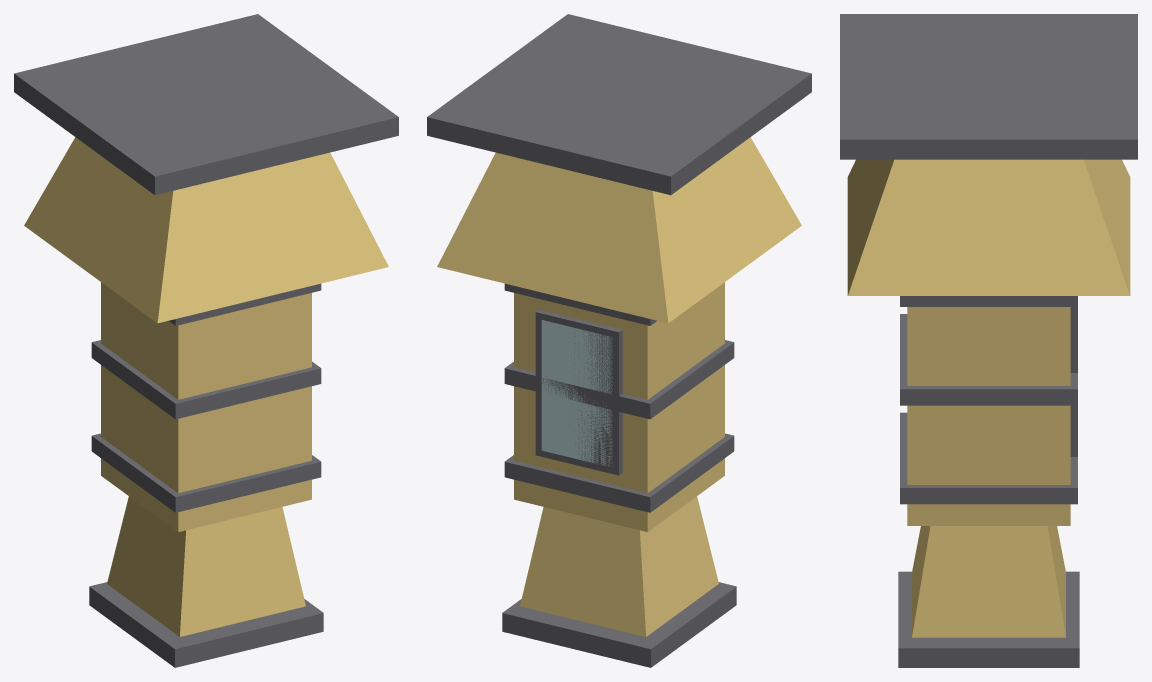
Rendered from chute.glb.
3 views of the same model, side by side, from view 1: azimuth 30°, elevation 25°; view 2: azimuth 150°, elevation 25°; view 3: azimuth 270°, elevation 25° (orthographic). The views are drawn at different scales.
Visible parts, largest first — view 1: Cube, Cone, Cube.001, Cone.001, Cube.007, Cube.003, Cube.002, Cube.004; view 2: Cube, Cone, Cube.001, Cone.001, Cube.005, Cube.007, Cube.006, Cube.002, Cube.003, Cube.004; view 3: Cube, Cone, Cube.001, Cone.001, Cube.007, Cube.002, Cube.003, Cube.004, Cube.006.
Part boxes in pixels (x1,y1,x2,y2): Cube: [14, 14, 398, 195]; Cone: [24, 137, 388, 323]; Cube.001: [101, 282, 311, 532]; Cone.001: [107, 496, 305, 636]; Cube.007: [89, 582, 323, 667]; Cube.003: [91, 340, 321, 419]; Cube.002: [91, 433, 321, 512]; Cube.004: [169, 283, 321, 325]; Cube: [427, 14, 811, 195]; Cone: [437, 137, 801, 323]; Cube.001: [514, 282, 724, 532]; Cone.001: [520, 496, 718, 636]; Cube.005: [541, 320, 612, 466]; Cube.007: [502, 582, 736, 667]; Cube.006: [535, 309, 622, 475]; Cube.002: [504, 433, 734, 512]; Cube.003: [504, 340, 734, 419]; Cube.004: [504, 283, 656, 325]; Cube: [840, 14, 1137, 159]; Cone: [847, 159, 1130, 295]; Cube.001: [907, 307, 1070, 525]; Cone.001: [912, 526, 1065, 637]; Cube.007: [898, 571, 1079, 667]; Cube.002: [900, 412, 1077, 504]; Cube.003: [900, 314, 1077, 405]; Cube.004: [900, 296, 1077, 306]; Cube.006: [1070, 307, 1077, 456].
Size of the model in its own units: 0.82 by 1.68 by 0.82.
